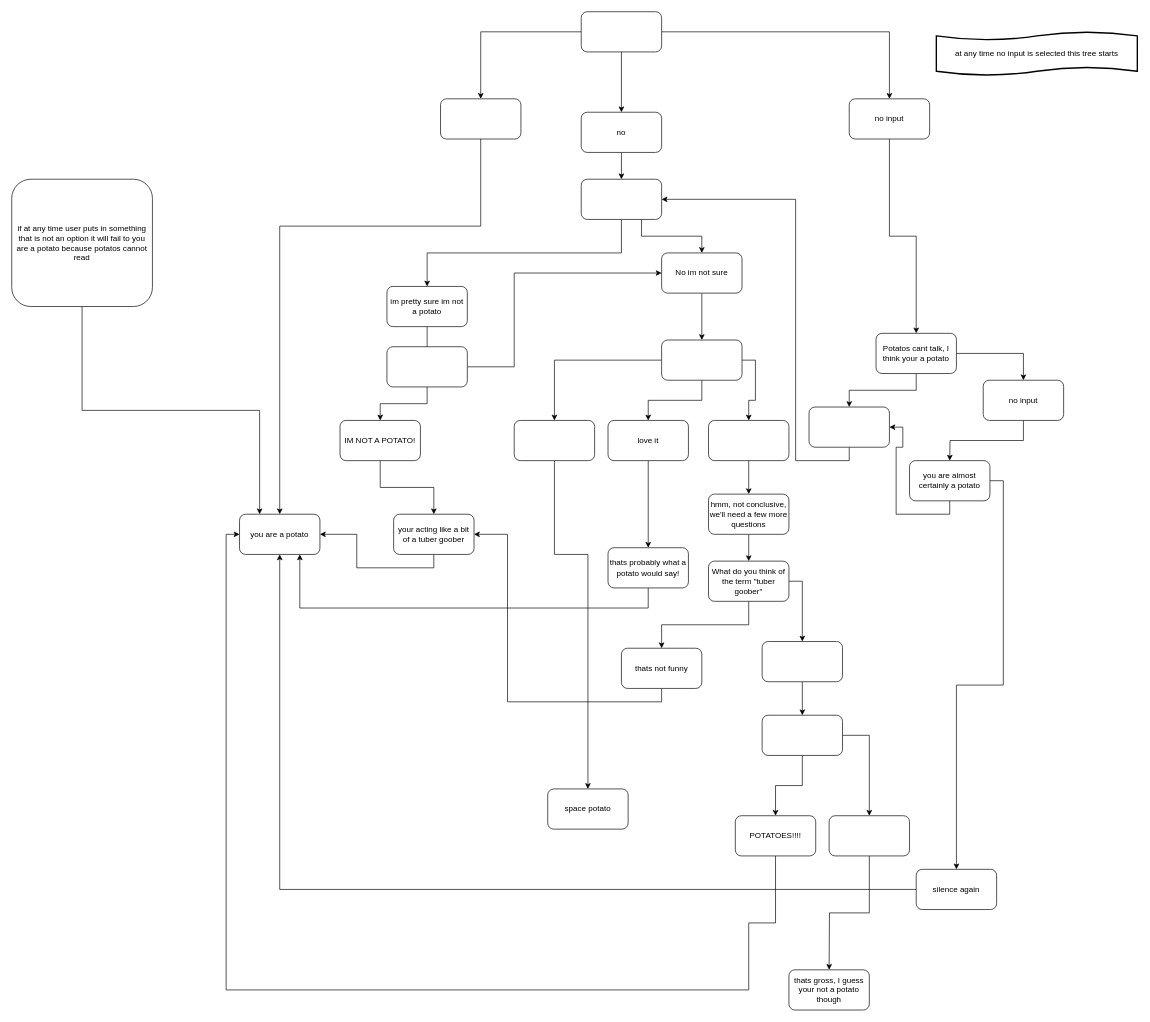
Some shapes in this 1150 by 1022 pixel diagram are drawn without their labels. Each missing label, with the centre of its shape:
"are you a potato?" belongs at [621,31].
"are you sure?" belongs at [621,199].
"hate it" belongs at [748,440].
"lets do a personality test how do you feel about dirt?" belongs at [701,359].
"Not only is that very funny but it describes me perfectly" belongs at [802,661].
"nuh uh!" belongs at [848,426].
"onions" belongs at [869,835].
"what is dirt?" belongs at [554,440].
"yes" belongs at [480,118].
"you do look a bit like a potato, are you still sure?" belongs at [426,366].
"your so quirky, last question. whats the best root vegtable?" belongs at [802,735].
